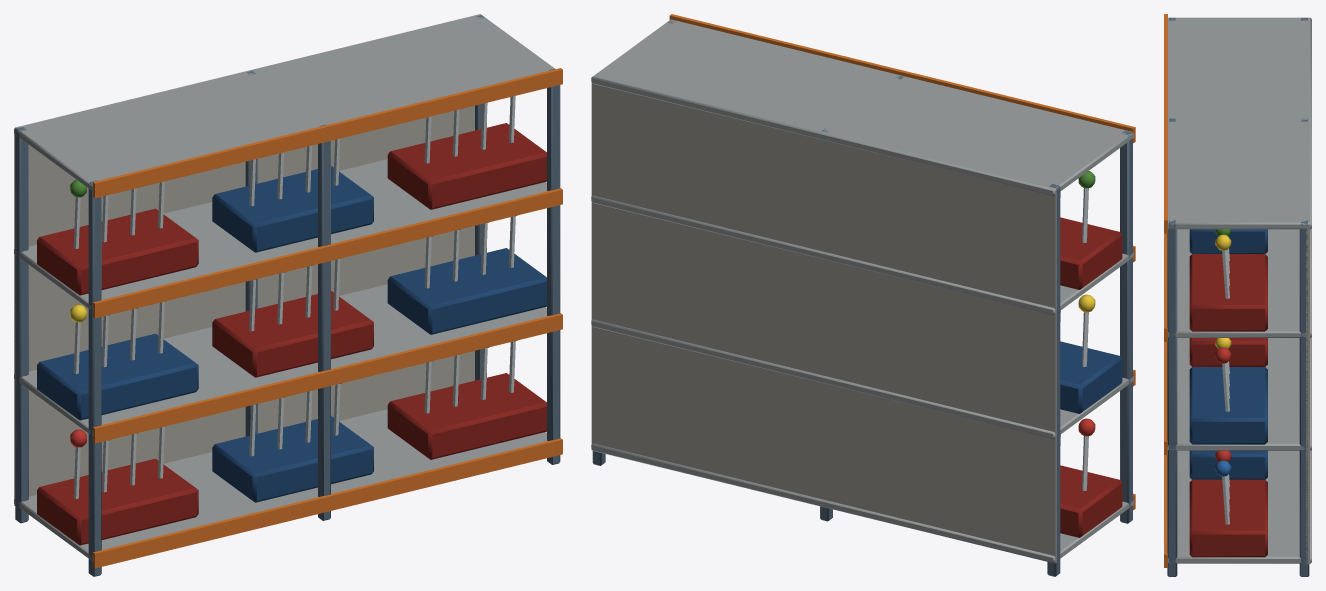
The model's file is 199_rayon_leviers.fbx.
3 views of the same model, side by side, from view 1: azimuth 30°, elevation 25°; view 2: azimuth 150°, elevation 25°; view 3: azimuth 270°, elevation 25° (orthographic). The views are drawn at different scales.
Visible parts, largest first — view 1: Rayon, Articles; view 2: Rayon, Articles; view 3: Rayon, Articles.
Part boxes in pixels (<box>): Rayon: <box>14,14,562,576</box>; Articles: <box>37,96,546,545</box>; Rayon: <box>591,14,1135,576</box>; Articles: <box>1060,171,1122,537</box>; Rayon: <box>1164,14,1311,576</box>; Articles: <box>1189,229,1267,557</box>.
Size of the model in its own units: 2.8 by 2.24 by 0.84.
Materials: 1 (1 with a texture image).
